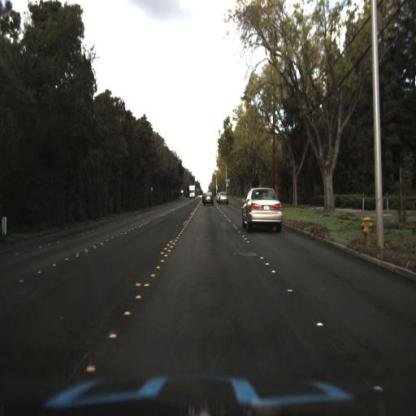car: (241, 190, 286, 234), (217, 188, 234, 208), (203, 191, 216, 211), (218, 195, 230, 209)
